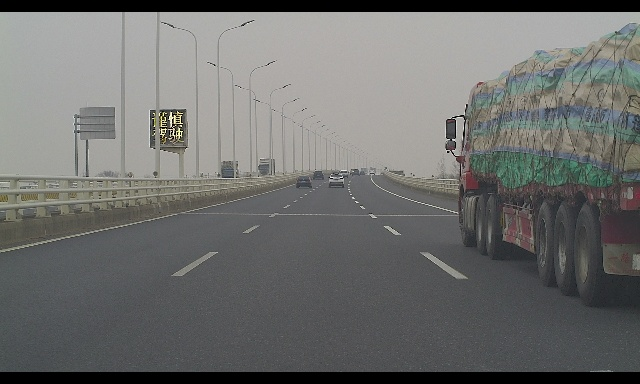car: (328, 173, 344, 187), (296, 175, 312, 188), (313, 171, 324, 180), (339, 170, 349, 178), (352, 169, 360, 176), (369, 170, 375, 175), (332, 170, 339, 174)
truck: (446, 23, 640, 308), (218, 161, 239, 185), (258, 158, 275, 178)
